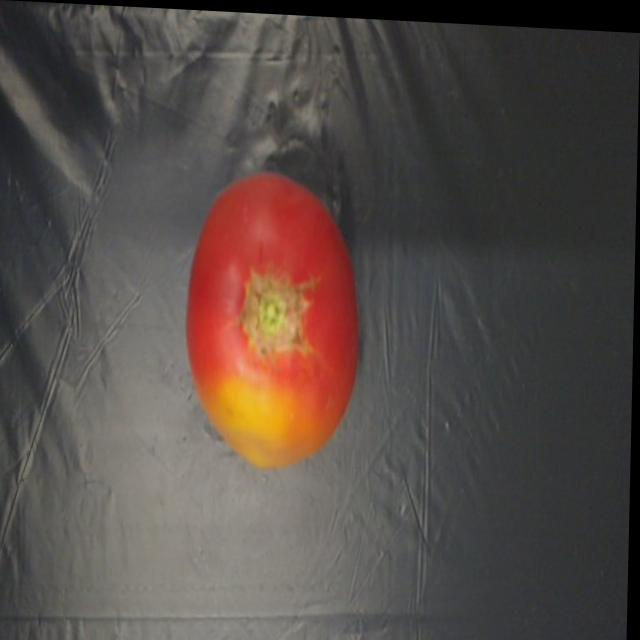sari: (145, 299, 385, 496)
